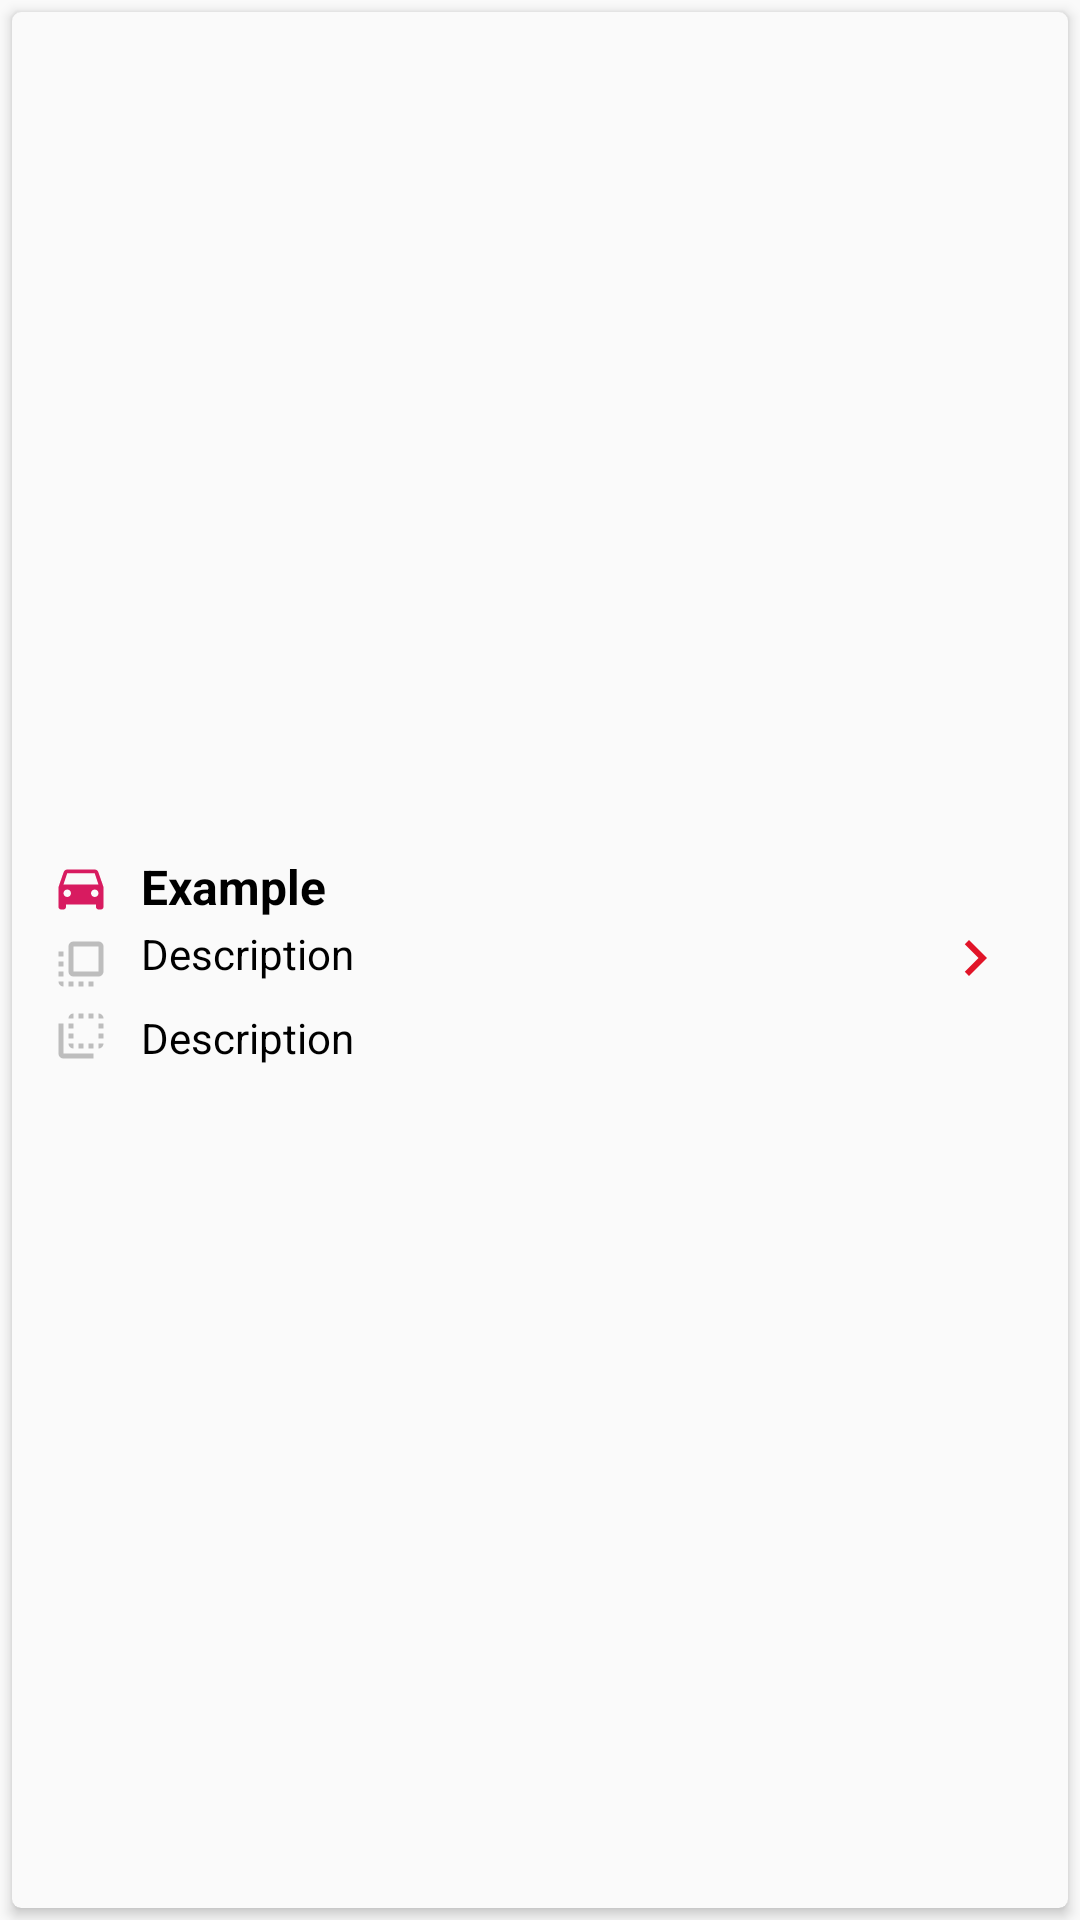

Icon click points for this 1080px×1920px phone screenshot, format (x=x, y=y):
chevron right: (x=976, y=958)
directions car: (x=81, y=889)
